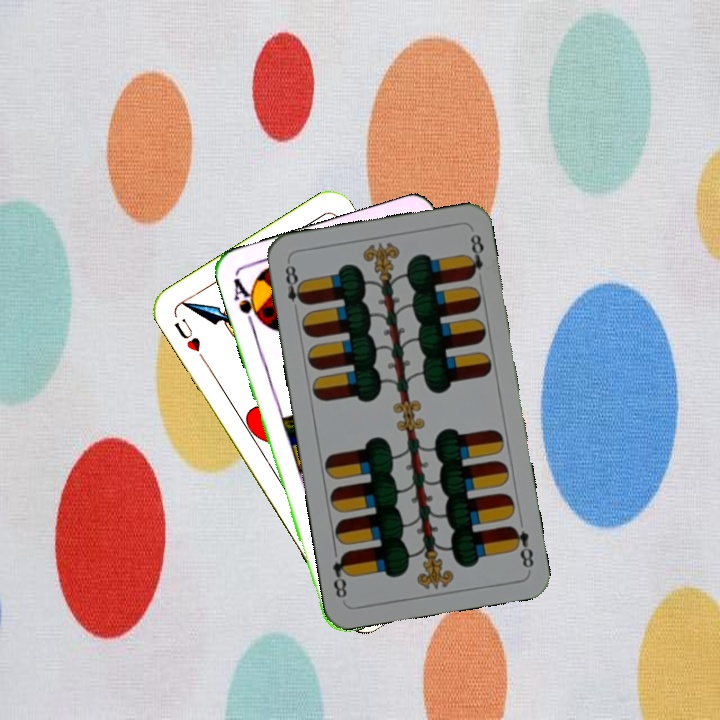E8: (281, 258, 308, 317), (506, 521, 537, 571)
HU: (170, 314, 209, 364)
SA: (229, 274, 266, 331)
